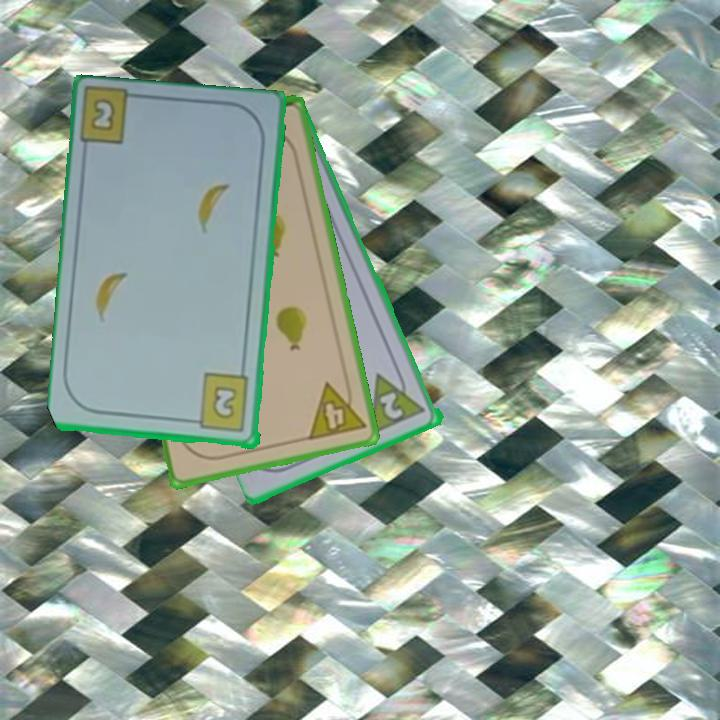2b: (187, 371, 252, 435), (88, 95, 118, 135)
2p: (376, 388, 407, 423)
4p: (304, 375, 369, 443)
